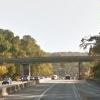Bridge: (15, 48, 91, 69)
